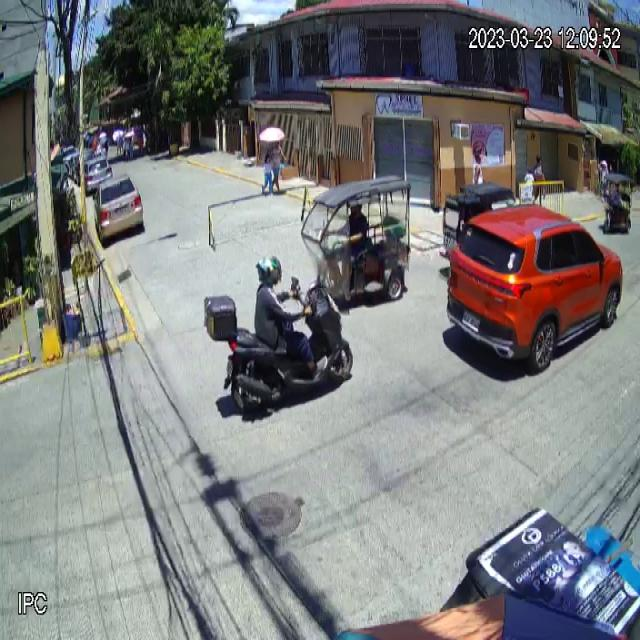Car: (446, 204, 624, 373), (94, 174, 144, 242)
Motorcycle: (202, 279, 353, 420)
